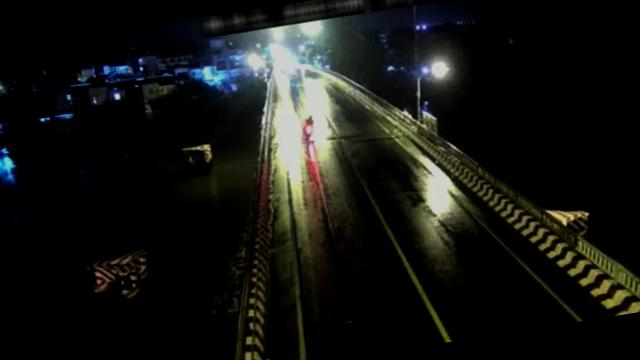Bike: (299, 112, 318, 142)
